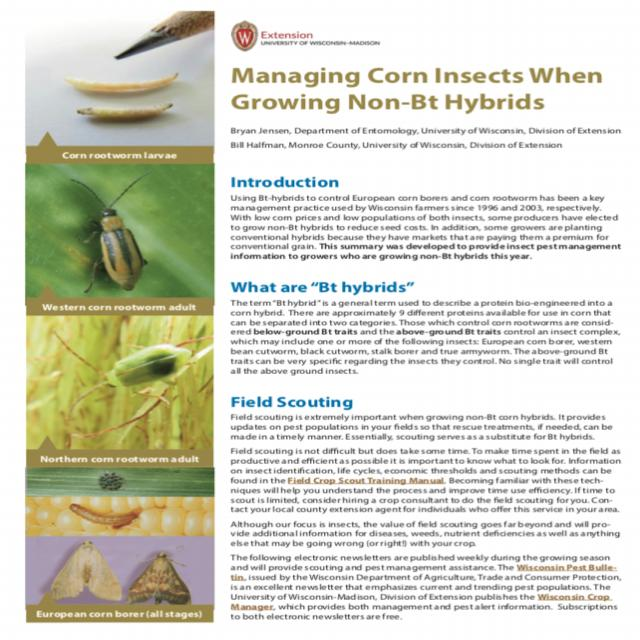cornborer-Larva-: (65, 499, 147, 534)
